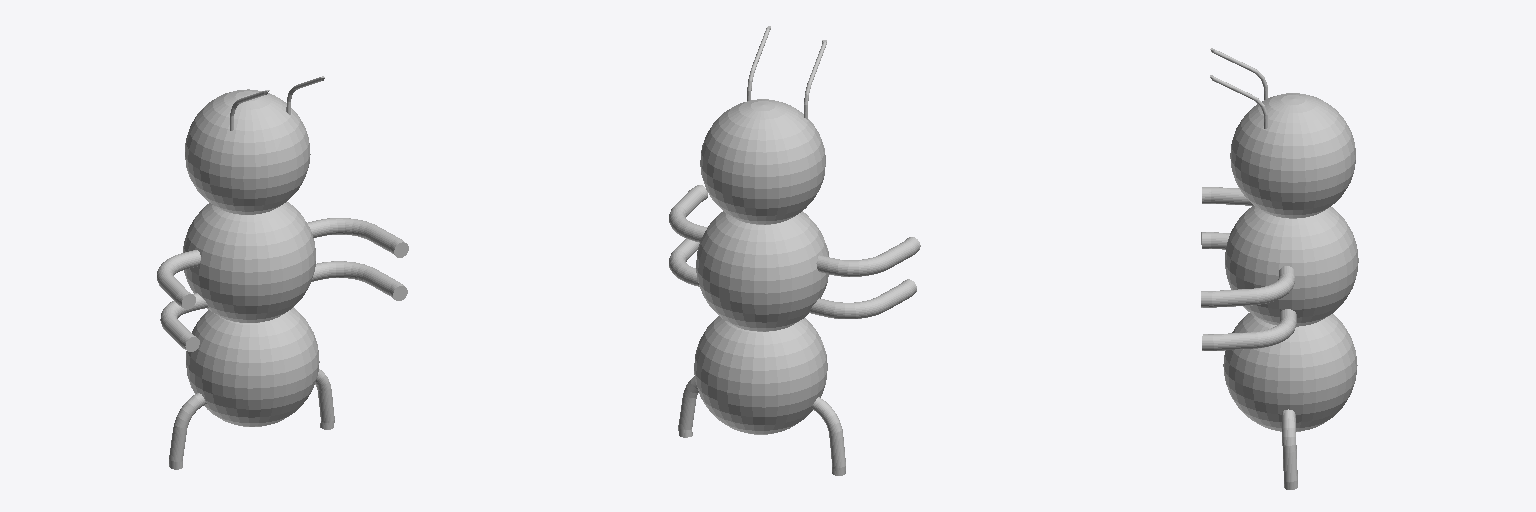
Rendered from newant.obj.
3 views of the same model, side by side, from view 1: azimuth 30°, elevation 25°; view 2: azimuth 150°, elevation 25°; view 3: azimuth 270°, elevation 25° (orthographic).
Visible parts, largest first — view 1: Sphere.001, Sphere.002, Sphere, Cylinder.002_Cylinder, Cylinder.007_Cylinder.006, Cylinder.003_Cylinder.001, Cylinder.006_Cylinder.005, Cylinder.005_Cylinder.004, Cylinder.004_Cylinder.002; view 2: Sphere.002, Sphere.001, Sphere, Cylinder.003_Cylinder.001, Cylinder.006_Cylinder.005, Cylinder.002_Cylinder, Cylinder.005_Cylinder.004, Cylinder.007_Cylinder.006, Cylinder.004_Cylinder.002; view 3: Sphere.002, Sphere.001, Sphere, Cylinder.007_Cylinder.006, Cylinder.002_Cylinder, Cylinder.004_Cylinder.002, Cylinder.003_Cylinder.001.
Part boxes in pixels (x1,y1,x2,y2): Sphere.001: (183,202,315,322); Sphere.002: (185,89,310,214); Sphere: (186,307,319,426); Cylinder.002_Cylinder: (307,218,408,257); Cylinder.007_Cylinder.006: (311,261,407,300); Cylinder.003_Cylinder.001: (157,250,200,309); Cylinder.006_Cylinder.005: (160,293,208,351); Cylinder.005_Cylinder.004: (169,393,206,469); Cylinder.004_Cylinder.002: (315,369,334,429); Sphere.002: (700,99,825,224); Sphere.001: (696,211,828,331); Sphere: (694,316,827,434); Cylinder.003_Cylinder.001: (816,237,920,276); Cylinder.006_Cylinder.005: (809,279,916,318); Cylinder.002_Cylinder: (669,185,707,242); Cylinder.005_Cylinder.004: (812,397,845,475); Cylinder.007_Cylinder.006: (669,239,699,286); Cylinder.004_Cylinder.002: (678,376,698,437); Sphere.002: (1230,93,1355,218); Sphere.001: (1225,206,1358,326); Sphere: (1223,313,1357,431); Cylinder.007_Cylinder.006: (1202,309,1296,350); Cylinder.002_Cylinder: (1201,266,1294,307); Cylinder.004_Cylinder.002: (1282,409,1297,489); Cylinder.003_Cylinder.001: (1202,187,1253,205).
Size of the model in its own units: 3.92 by 6.44 by 2.35.